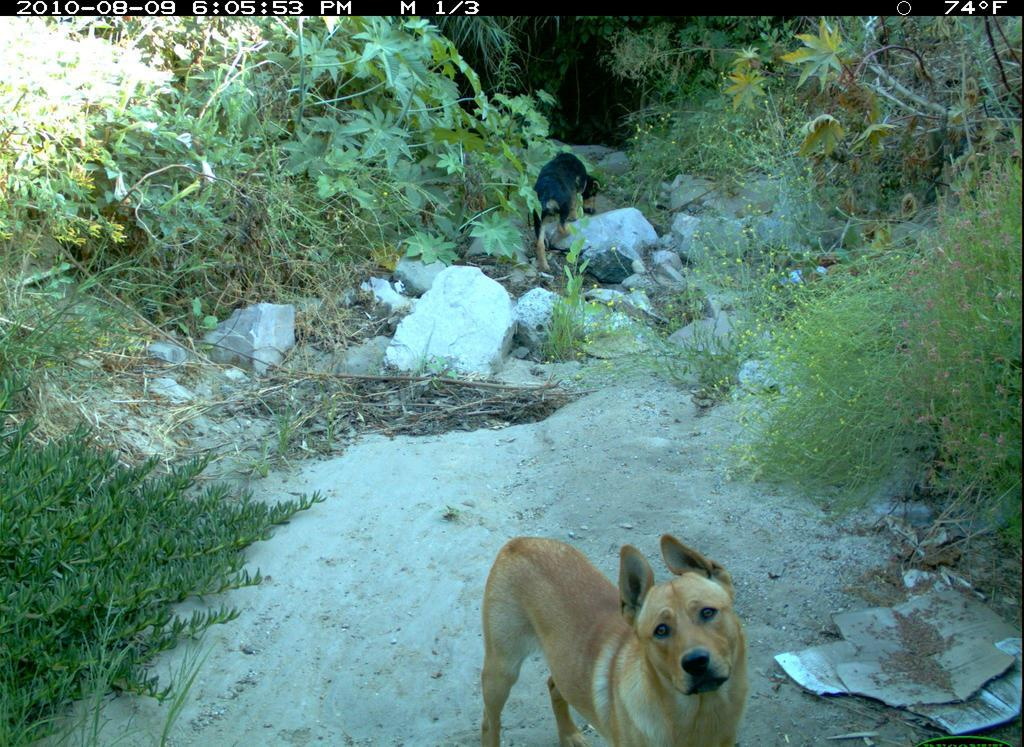dog: (474, 515, 760, 747), (525, 144, 612, 285)
